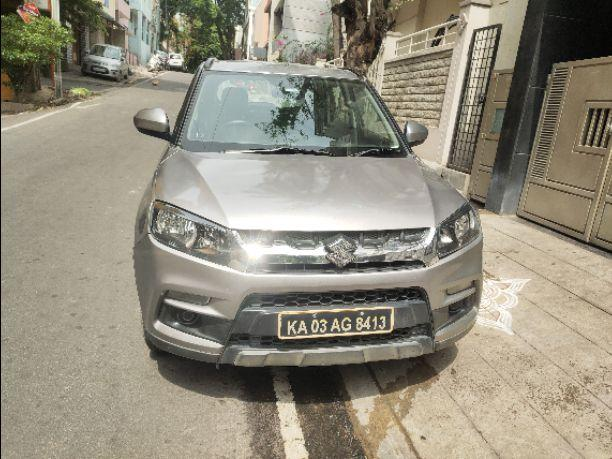license_plate: (276, 306, 394, 340)
